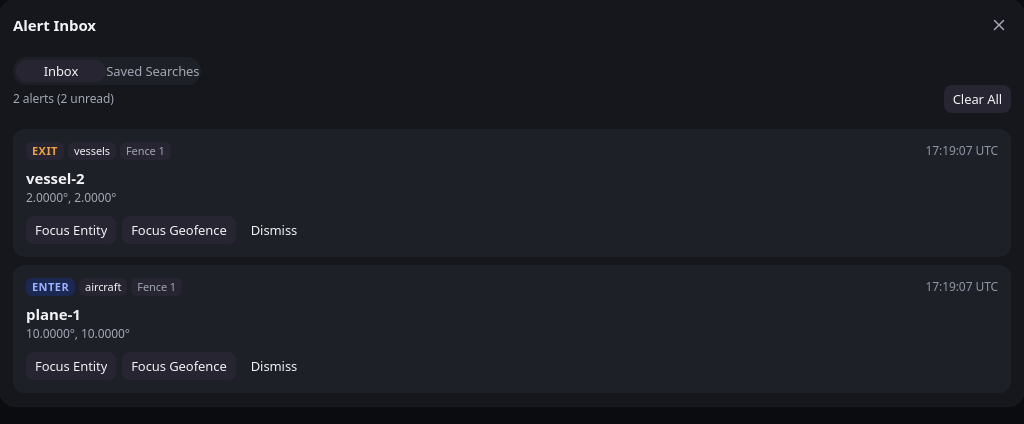
Scenario: AlertsPanel (Alert Inbox) › clears all alerts when Clear All is clicked
Step 1. Click the button "Clear All" → point(977, 99), box [944, 85, 1011, 113]
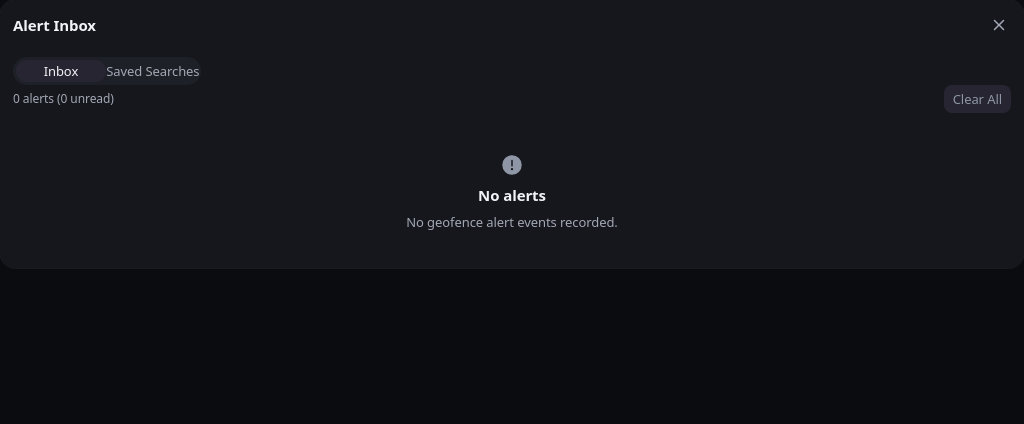
Now the text "No alerts" is shown, box [478, 185, 546, 205]
